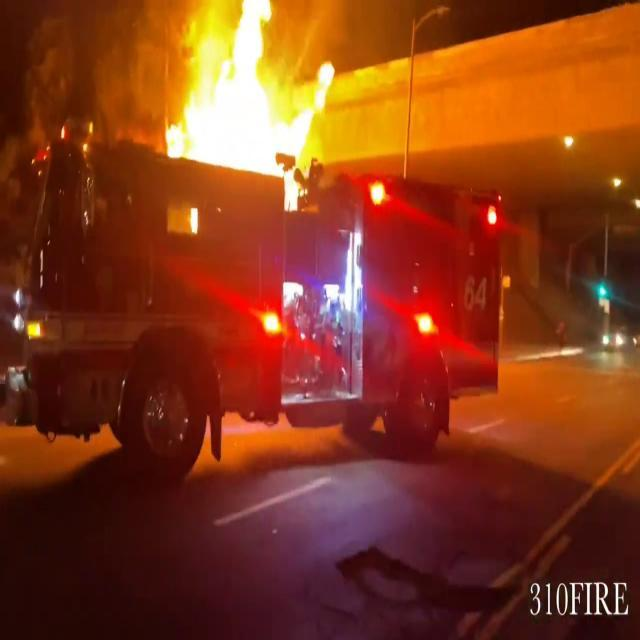Fire: (156, 1, 342, 192)
